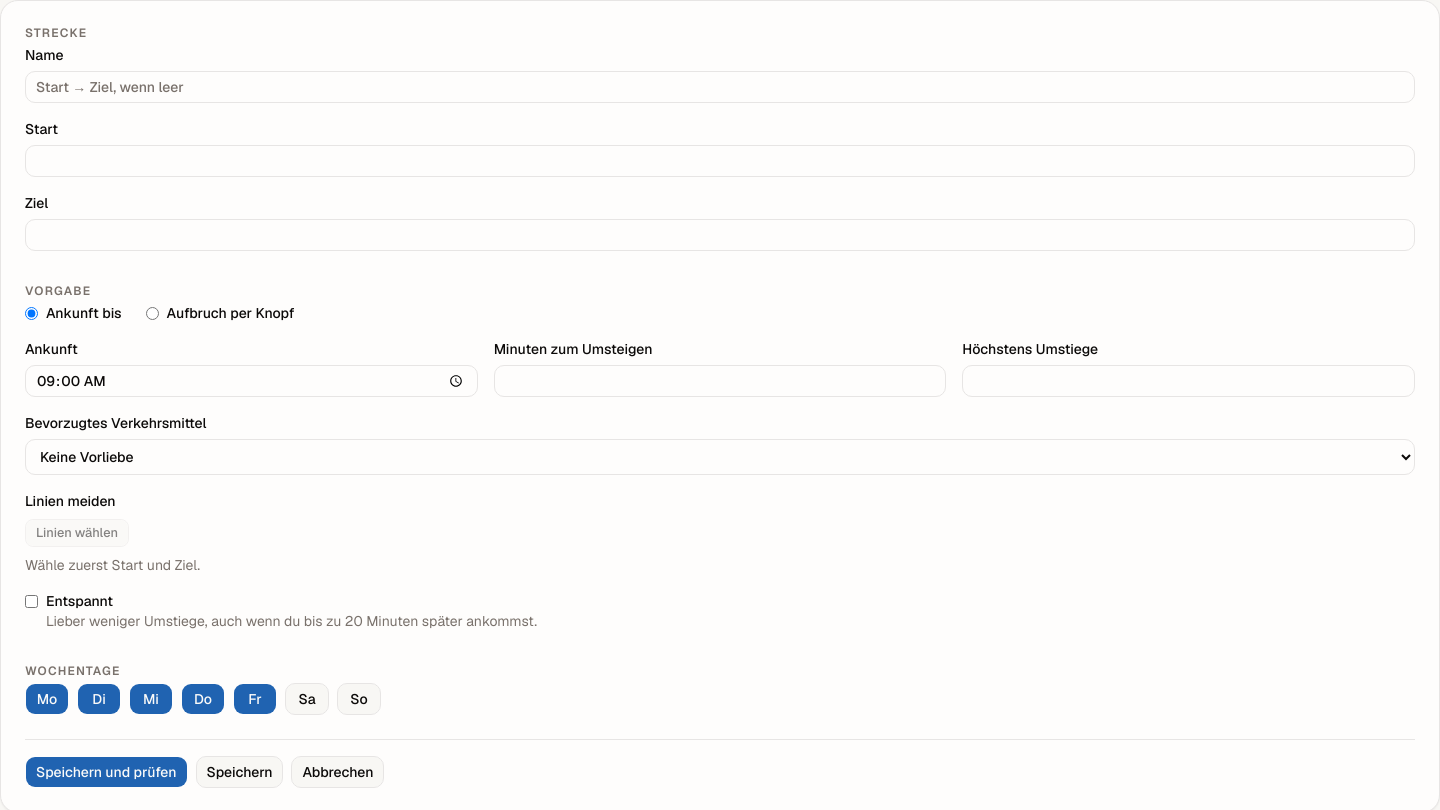
Test case: RouteForm › drops the arrival time when the route starts with the leave button
Click the radio button labelled "Aufbruch per Knopf".
click(152, 313)  # box [146,306,159,320]
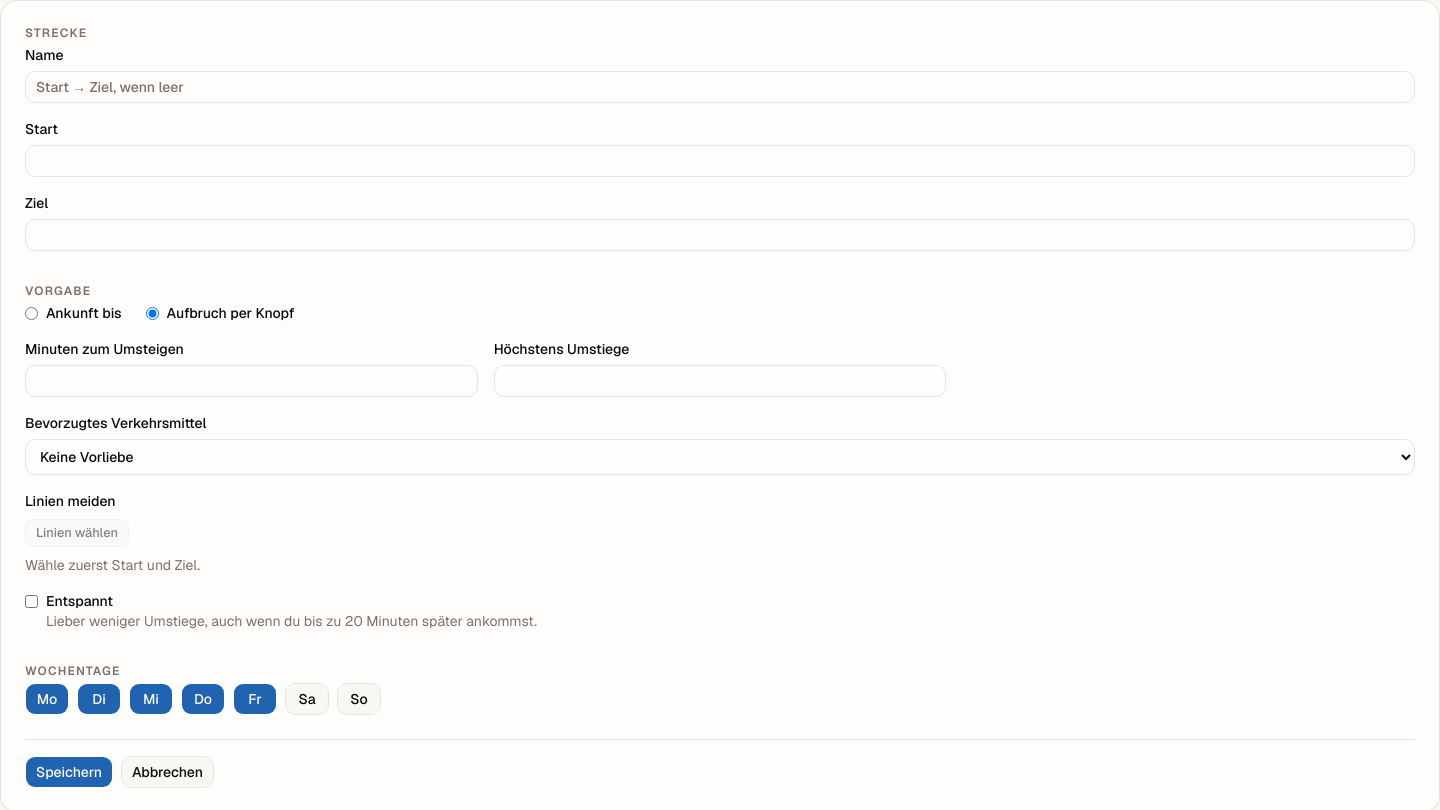
Check: the radio button labelled "Aufbruch per Knopf" is checked, box [146,306,159,320]
Check: the time field named "arrival" is gone
